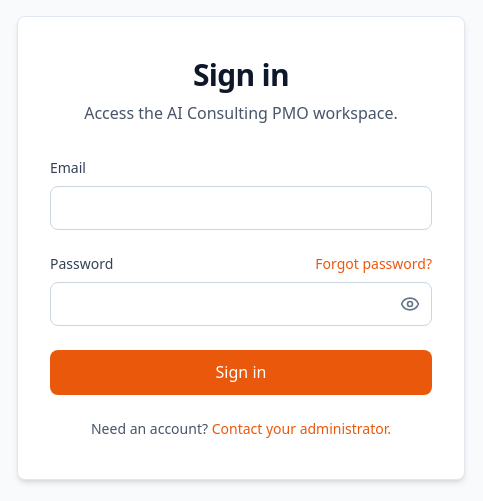
Test: LoginPage › toggles password visibility when show password button is clicked
The width and height of the screenshot is (483, 501).
Note: Click to show password
What coordinates should you click on to do the following:
click the button named "show password"
I would click on:
 (410, 304)
Its box is [396,290,424,318].
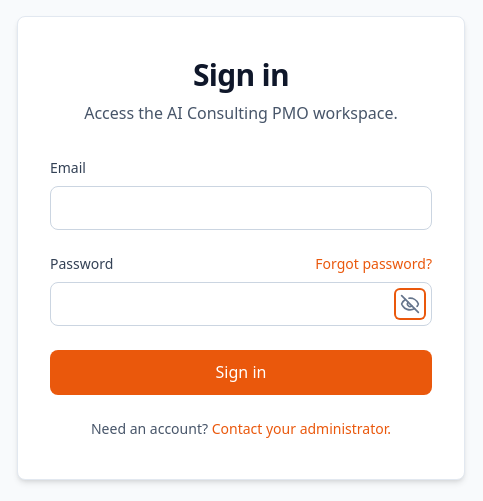
Result: the button named "hide password" is shown
Note: Click again to hide password
What coordinates should you click on to do the following:
click the button named "hide password"
I would click on:
 (410, 304)
Its box is [396,290,424,318].
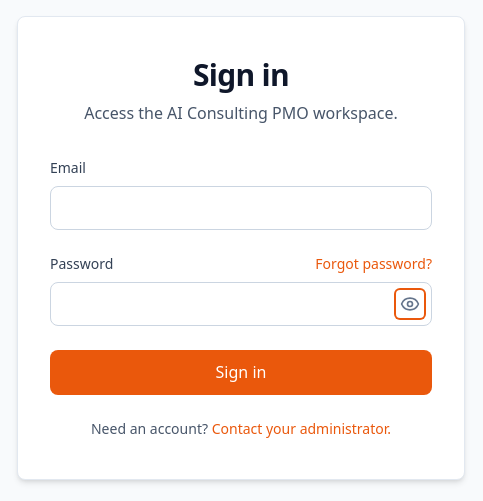
Result: the button named "show password" is shown at [396,290,424,318]
